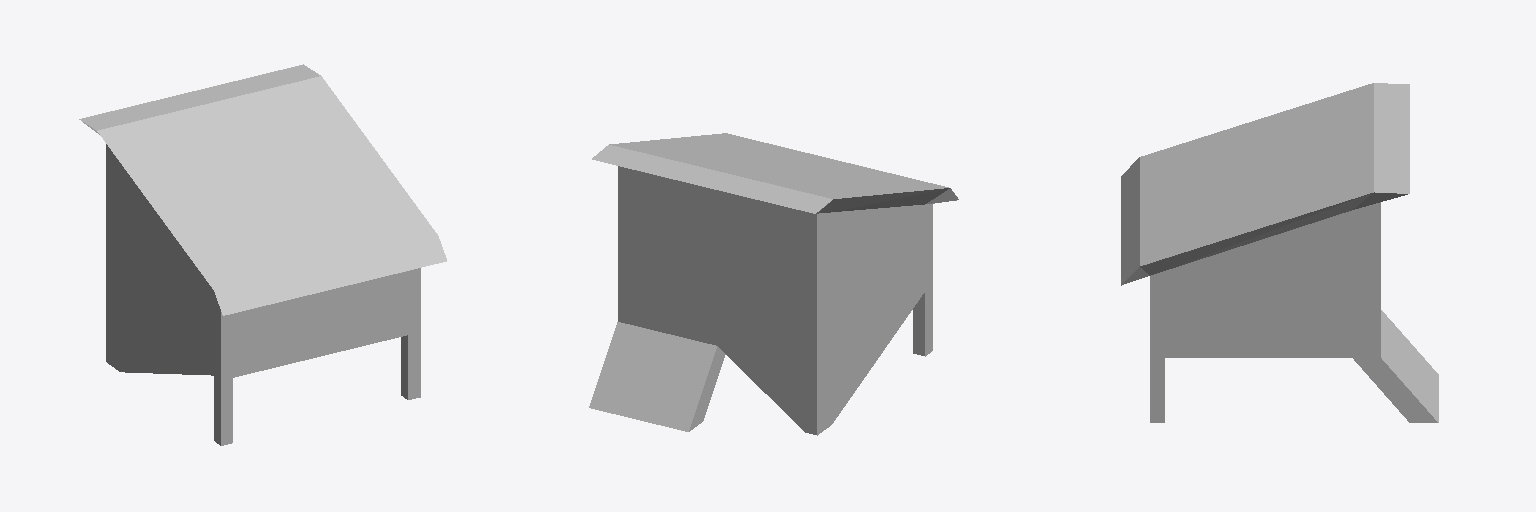
The model's file is chicken_house.obj.
The picture shows the model from 3 angles: view 1: azimuth 30°, elevation 25°; view 2: azimuth 150°, elevation 25°; view 3: azimuth 270°, elevation 25°; orthographic projection.
Parts seen in each view (by area): view 1: cuboid; view 2: cuboid; view 3: cuboid.
Boxes of the visible parts, x1=… form: cuboid: x1=79, y1=64, x2=446, y2=445; cuboid: x1=589, y1=133, x2=958, y2=435; cuboid: x1=1121, y1=83, x2=1438, y2=422.
Size of the model in its own units: 1.12 by 1.13 by 1.38.